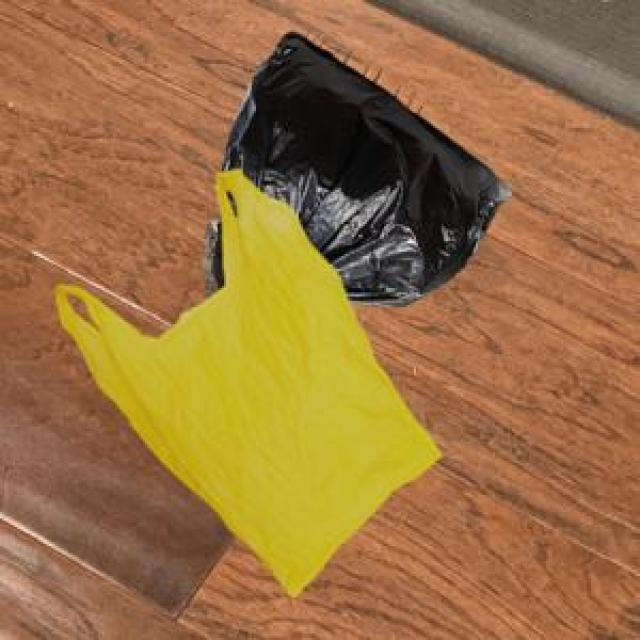miscellaneous trash: (201, 28, 508, 303)
